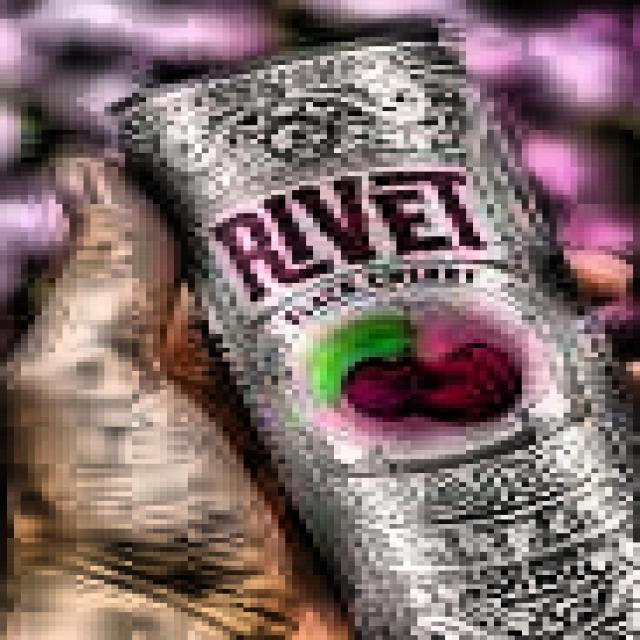metal: (76, 9, 640, 639)
